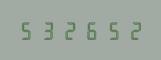five: (17, 20, 37, 40), (102, 20, 122, 40)
six: (81, 20, 101, 40)
three: (38, 20, 58, 40)
two: (60, 20, 80, 40), (123, 20, 143, 40)
